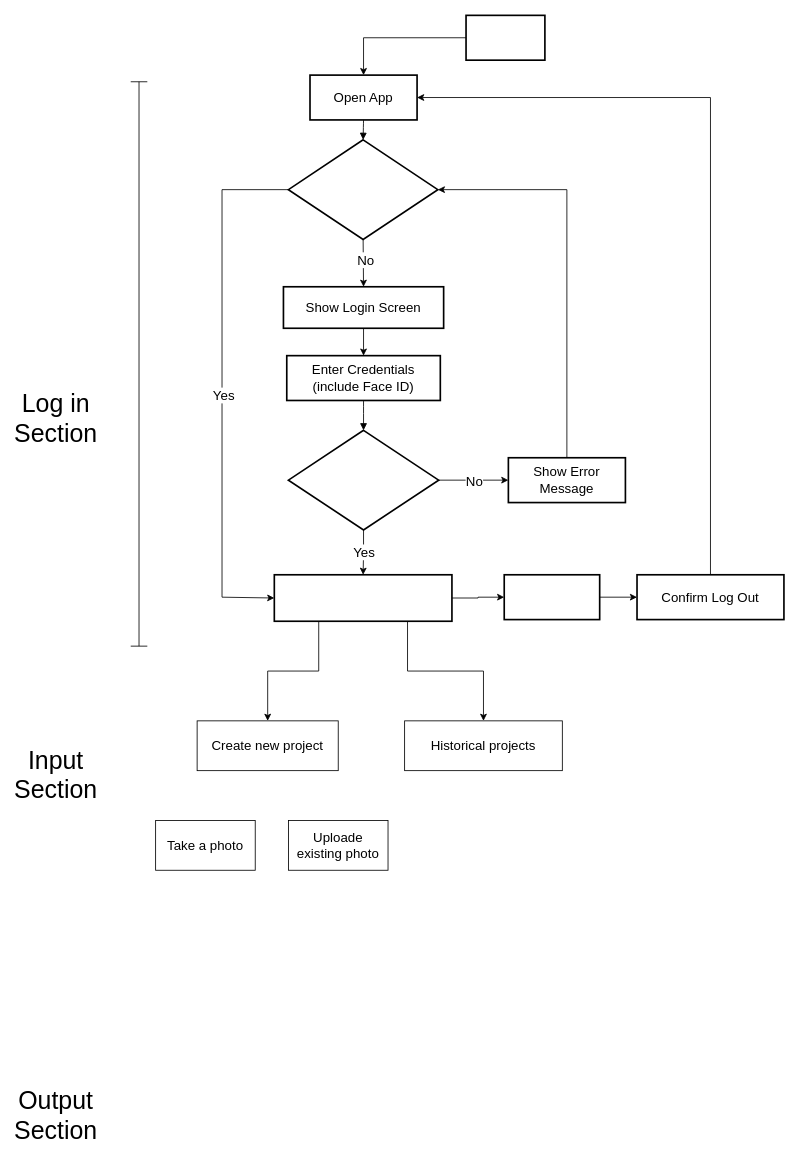
Some shapes in this 798 by 1159 pixel diagram are drawn without their labels. Each missing label, with the centre of its shape:
"Credentials Valid?" goes at (363,479).
"Is User Logged In?" goes at (362,189).
"Log Out" goes at (551,597).
"Show Main Dashboard" goes at (362,598).
"Start" goes at (505,37).
